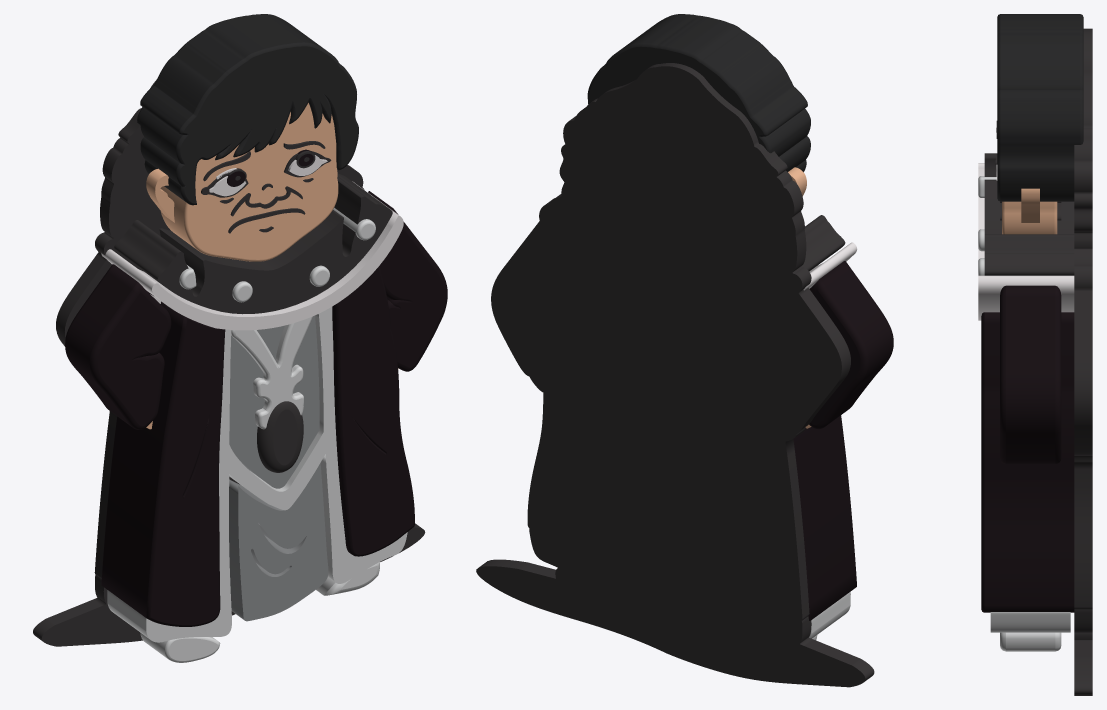
The model's file is fabio2.fbx.
3 views of the same model, side by side, from view 1: azimuth 30°, elevation 25°; view 2: azimuth 150°, elevation 25°; view 3: azimuth 270°, elevation 25° (orthographic). The views are drawn at different scales.
Visible parts, largest first — view 1: Curve.038, Curve.046, Curve.039, Curve.029, Curve.002, Curve.034, Curve, Curve.041, Curve.035, Curve.001, Curve.040, Curve.031 (+6 smaller); view 2: Curve, Curve.046, Curve.038, Curve.041, Curve.029, Curve.034; view 3: Curve.039, Curve.046, Curve, Curve.040, Curve.029, Curve.031, Curve.034, Curve.002, Curve.037, Curve.028, Curve.030.
Boxes of the visible parts, x1,y1,x2,y2 form: Curve.038: (101, 291, 225, 626); Curve.046: (137, 14, 358, 205); Curve.039: (332, 266, 414, 556); Curve.029: (114, 173, 392, 314); Curve.002: (160, 103, 338, 261); Curve.034: (107, 307, 407, 642); Curve: (33, 79, 425, 646); Curve.041: (65, 264, 171, 429); Curve.035: (229, 463, 328, 621); Curve.001: (229, 315, 319, 488); Curve.040: (368, 191, 447, 371); Curve.031: (101, 181, 403, 330); Curve: (476, 63, 874, 687); Curve.046: (587, 14, 810, 172); Curve.038: (793, 288, 856, 620); Curve.041: (809, 261, 893, 429); Curve.029: (802, 215, 845, 271); Curve.034: (809, 592, 850, 638); Curve.039: (981, 312, 1074, 612); Curve.046: (997, 14, 1083, 201); Curve: (1074, 28, 1092, 695); Curve.040: (1000, 285, 1061, 464); Curve.029: (984, 153, 1074, 275); Curve.031: (978, 163, 1074, 320); Curve.034: (990, 612, 1070, 632); Curve.002: (1002, 201, 1057, 234); Curve.037: (1000, 632, 1061, 651); Curve.028: (1021, 188, 1039, 222); Curve.030: (978, 176, 996, 275).
Bounding box in the file's own units: 462 × 608 × 102.
